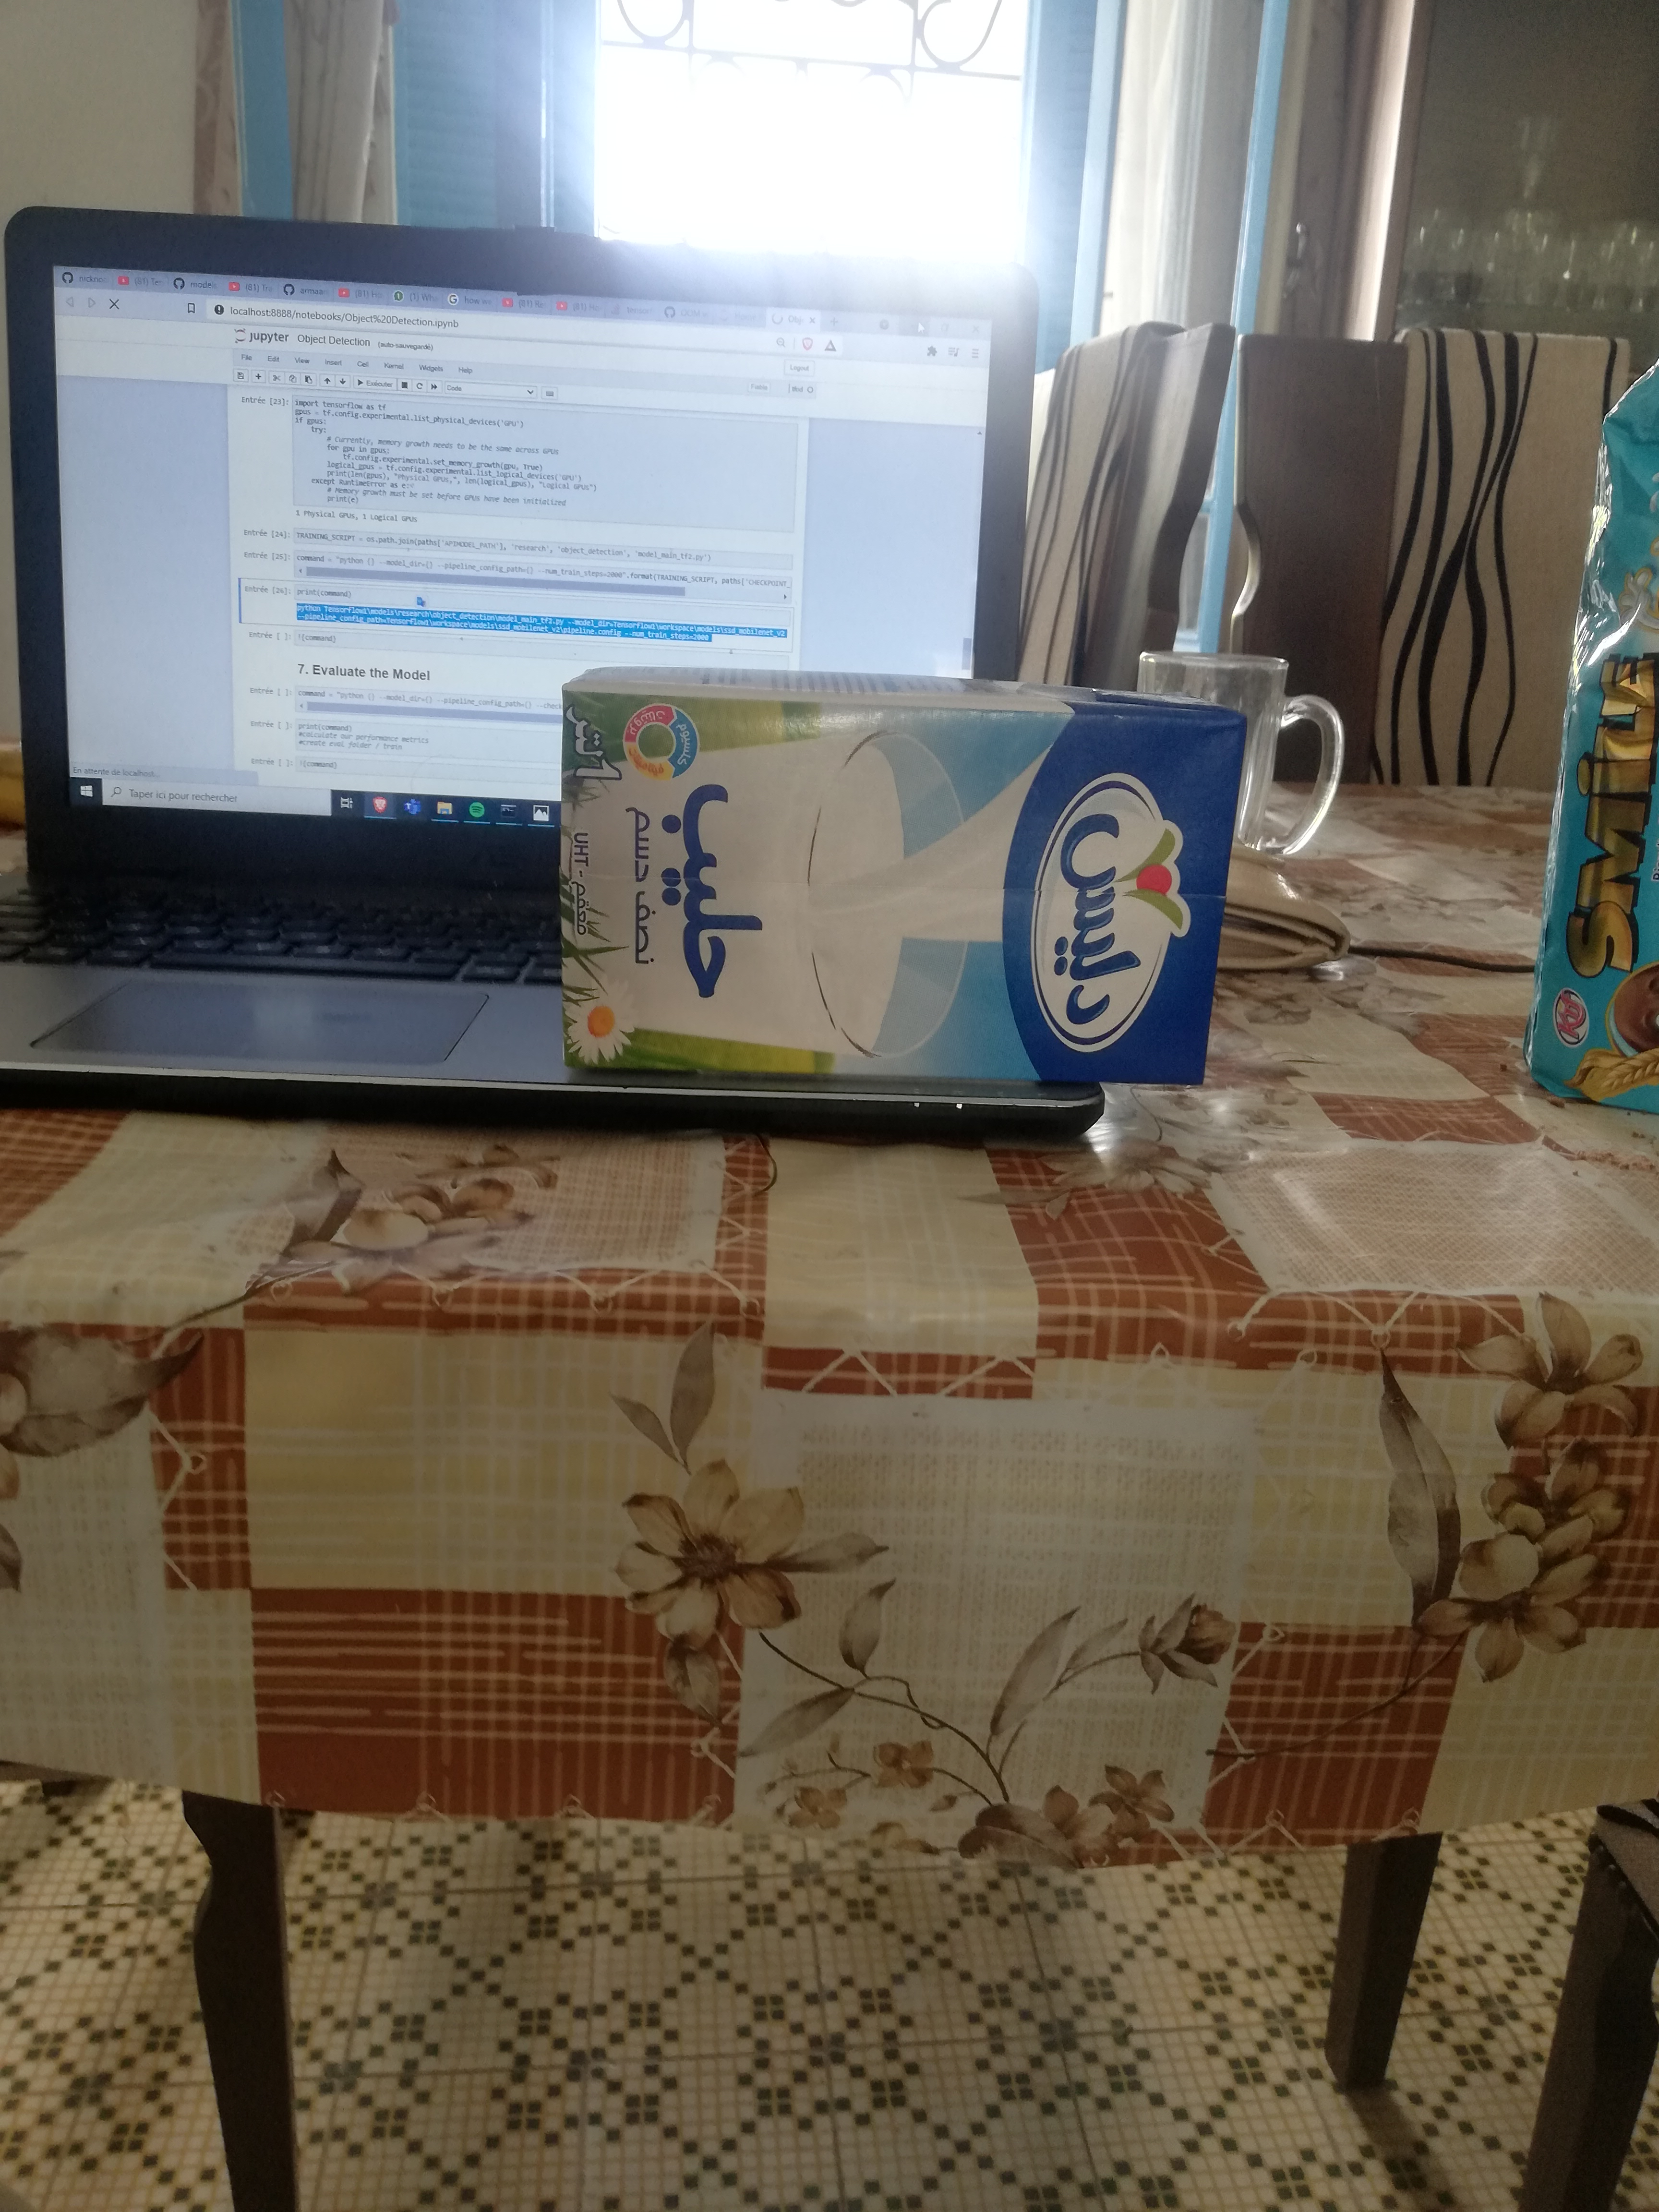Lait delice: (561, 671, 1251, 1082)
